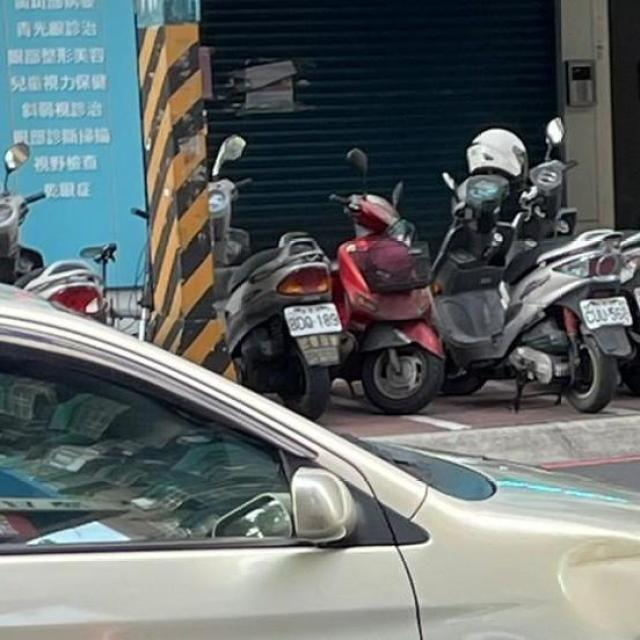W: (276, 297, 345, 342), (576, 291, 637, 332)
